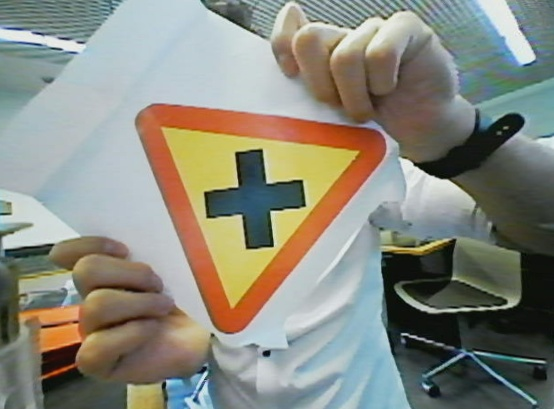junction: (129, 96, 394, 346)
